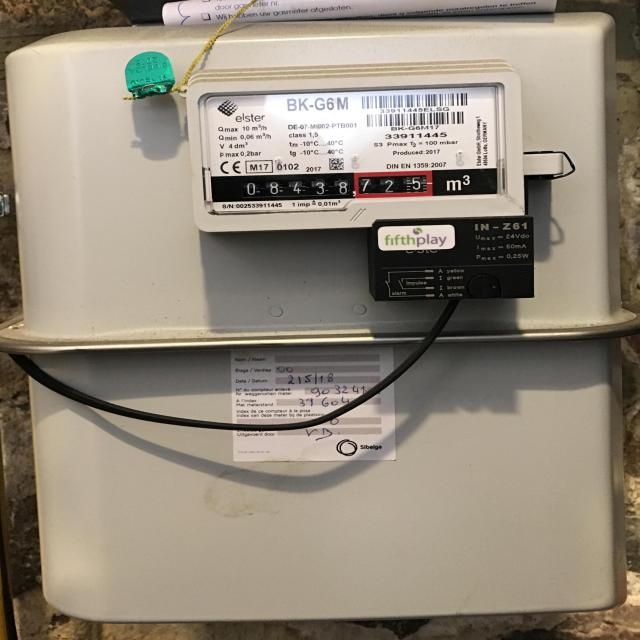gaz_meter: (201, 76, 501, 210)
indication: (212, 170, 434, 201)
